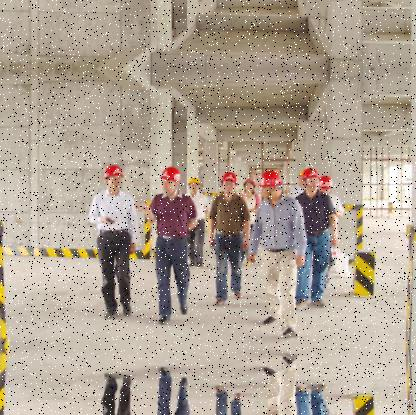helmet: (261, 166, 285, 201), (104, 161, 127, 192), (160, 164, 184, 193), (298, 165, 319, 191), (221, 167, 239, 196), (319, 173, 334, 193), (188, 175, 202, 196), (244, 175, 259, 193)
